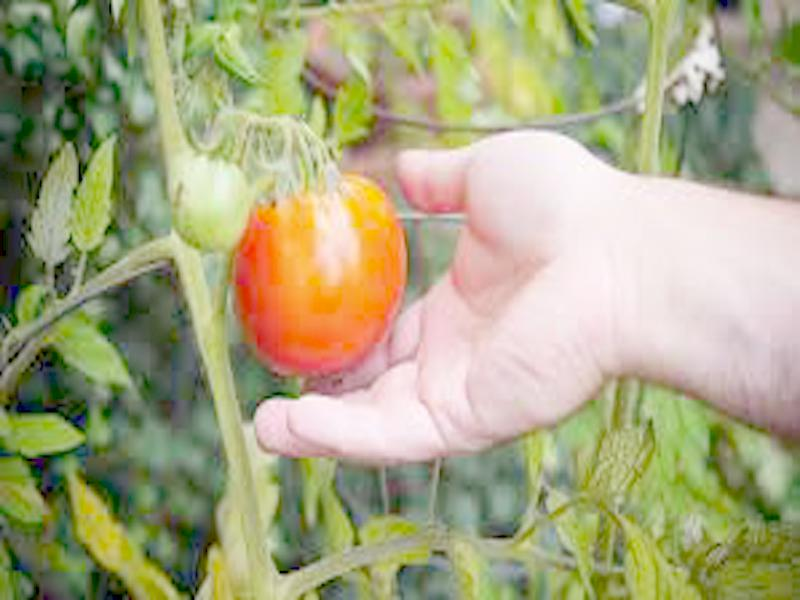Tomato: (227, 168, 407, 375)
